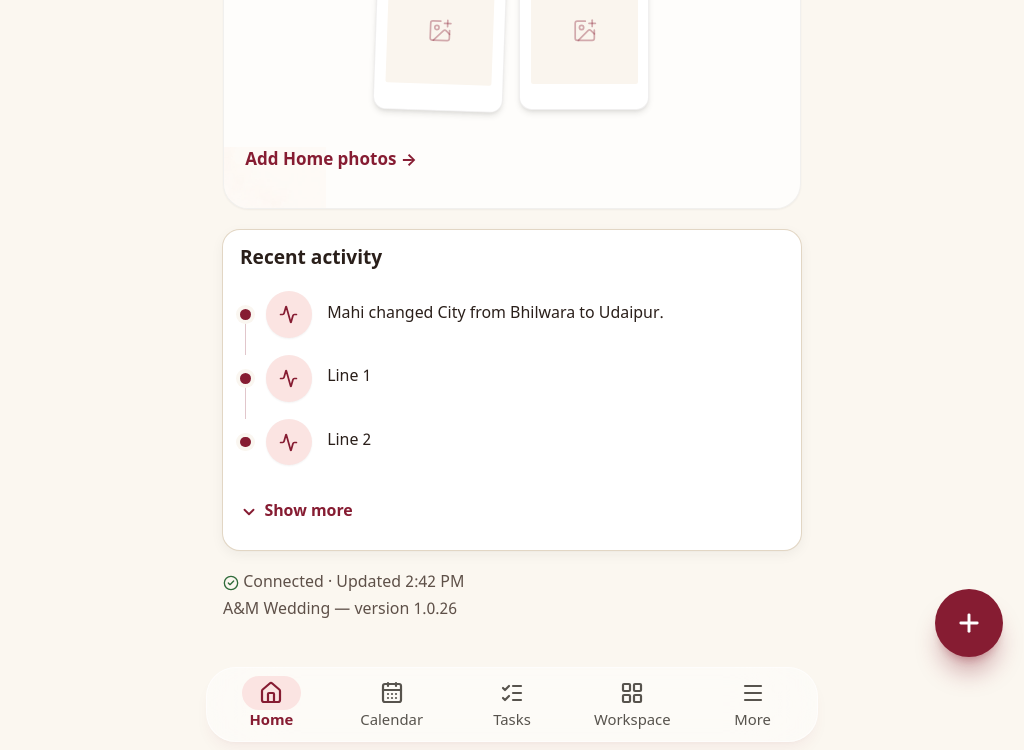
Scenario: Home › recent activity: Show more → a scrolling list with Show older; Show less folds it
This screenshot has width=1024, height=750.
(page scrolled)
Click the button "Show more".
click(296, 508)  # box 240,482 -> 353,533
(page scrolled)
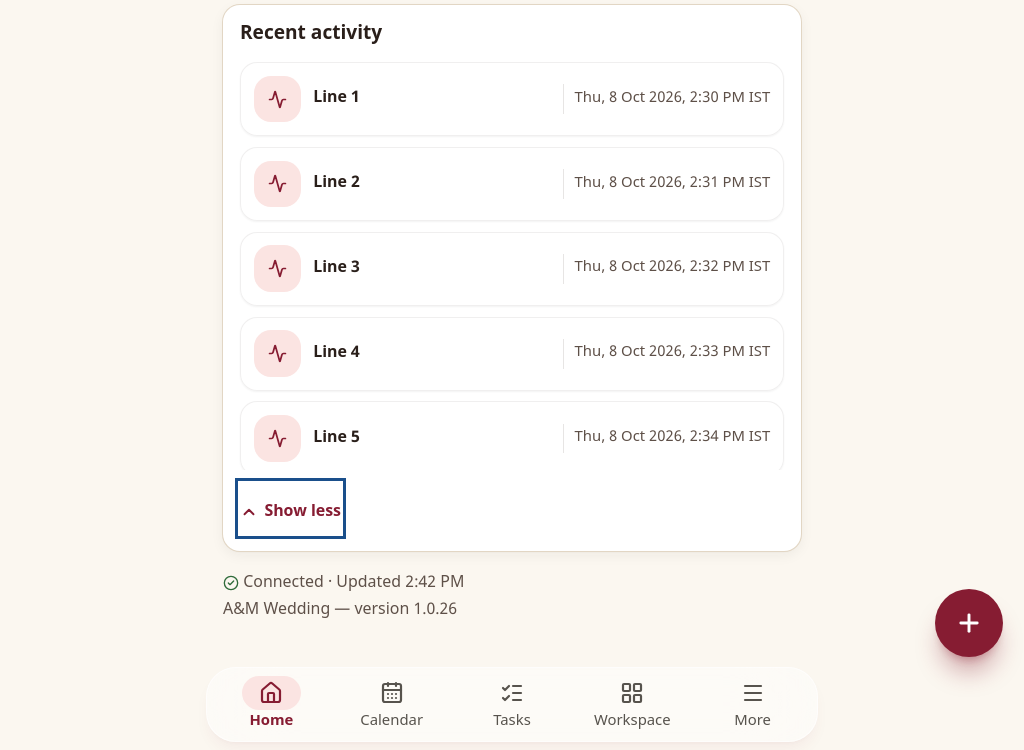
Click the button "Show less".
click(290, 508)  # box 240,483 -> 341,534
(page scrolled)
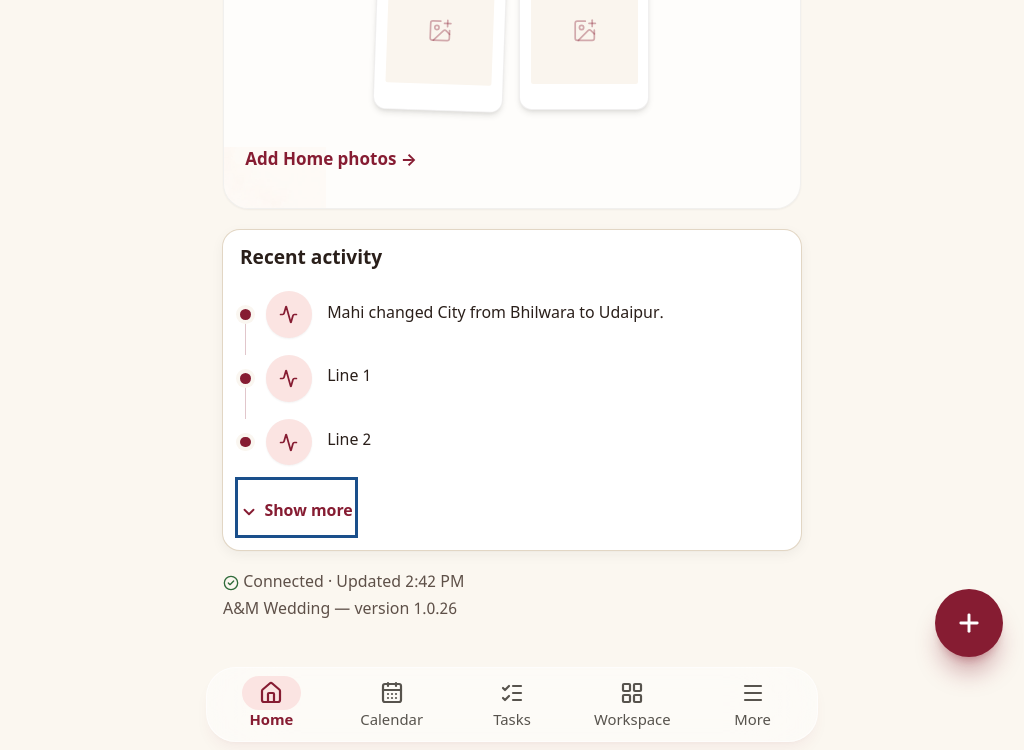
Expected: the element with test id "activity-scroll" is gone
